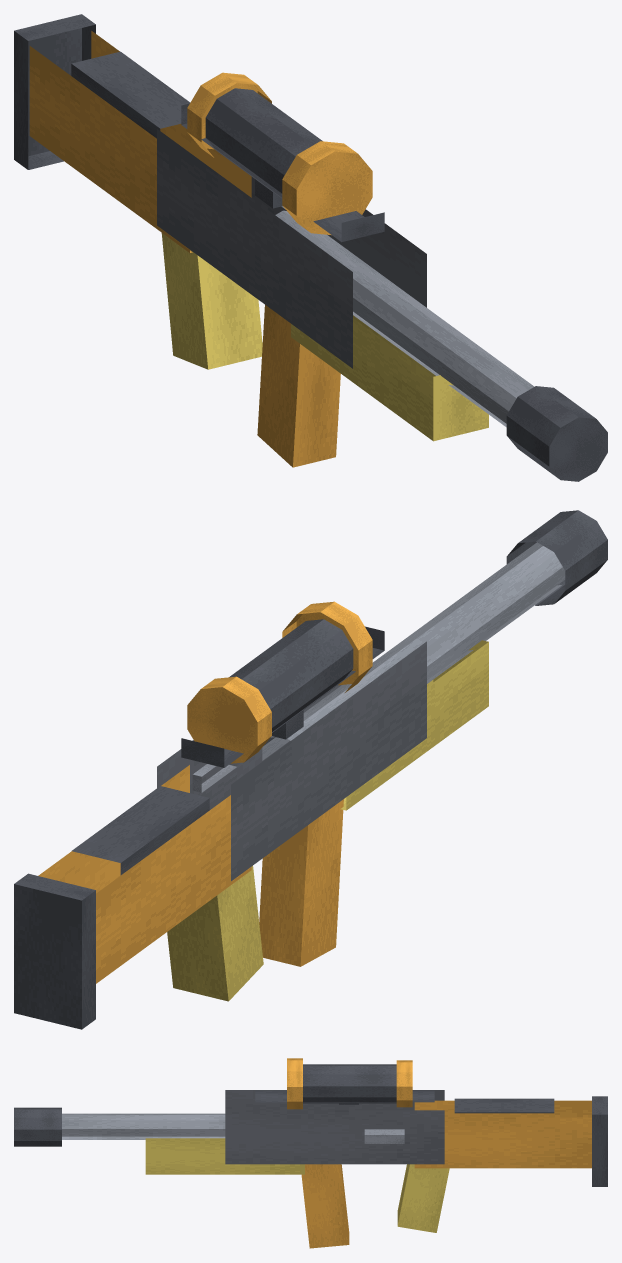
File: weapon_dmr.glb
3 views of the same model, one above another, from view 1: azimuth 30°, elevation 25°; view 2: azimuth 150°, elevation 25°; view 3: azimuth 270°, elevation 25° (orthographic). The views are drawn at different scales.
Visible parts, largest first — view 1: weapon_dmr; view 2: weapon_dmr; view 3: weapon_dmr.
Boxes of the visible parts, x1=… form: weapon_dmr: x1=14, y1=14, x2=607, y2=481; weapon_dmr: x1=14, y1=510, x2=607, y2=1029; weapon_dmr: x1=14, y1=1058, x2=607, y2=1248.
Bounding box in the file's own units: 0.3136 × 1.01 × 2.98.
Materials: 1 (1 with a texture image).
